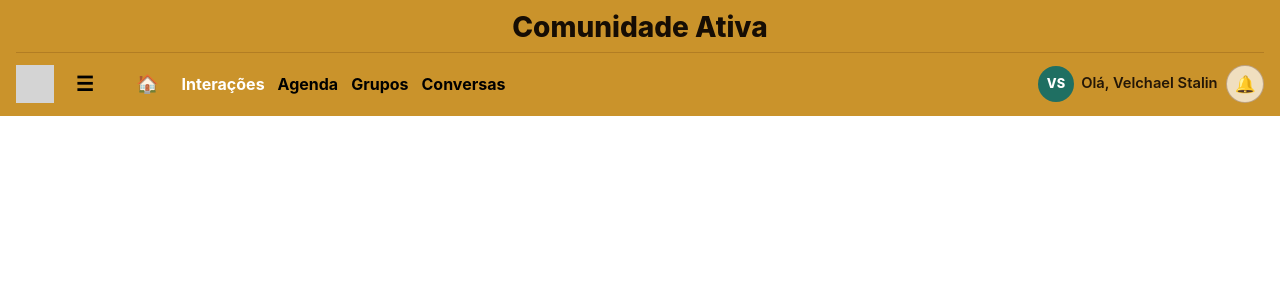
campana renderiza agenda_task_updated
Click the button named "Abrir notificações". click: (1245,84)
box: [1226,65,1264,103]
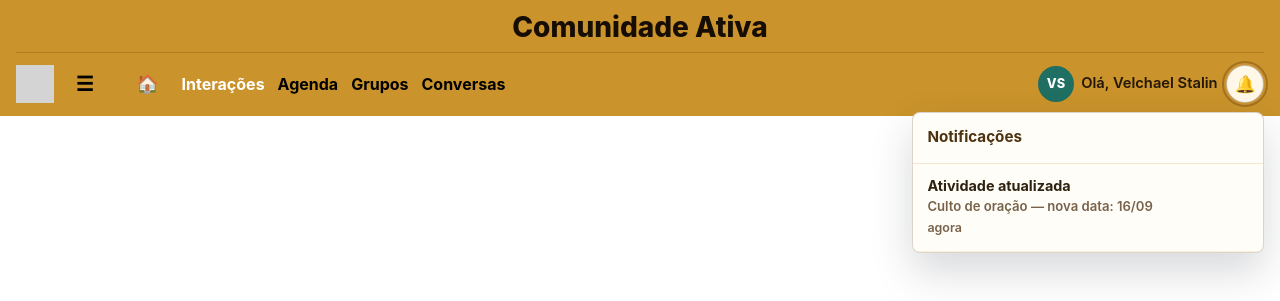
Expected: the text "Atividade atualizada" is shown, [927,177,1071,194]
Expected: the text "Culto de oração — nova data: 16/09" is shown, [927,198,1153,214]
